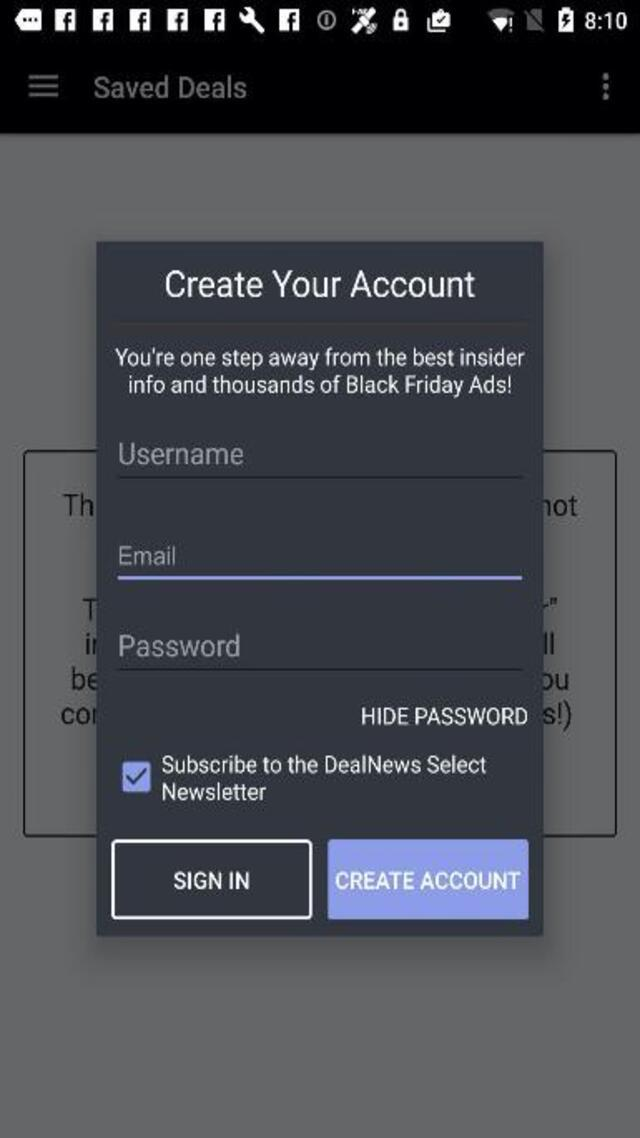CheckedTextView: (155, 754, 519, 804)
Icon: (28, 76, 58, 98), (602, 74, 608, 100)
Text: (123, 372, 516, 400), (114, 345, 527, 369), (164, 270, 473, 298), (160, 754, 489, 779), (334, 869, 522, 893), (363, 706, 528, 727), (117, 441, 245, 468), (93, 76, 246, 98), (120, 634, 240, 657), (158, 782, 268, 804), (170, 870, 252, 892), (117, 546, 180, 568)
TextButton: (110, 838, 312, 918), (328, 838, 530, 918)
